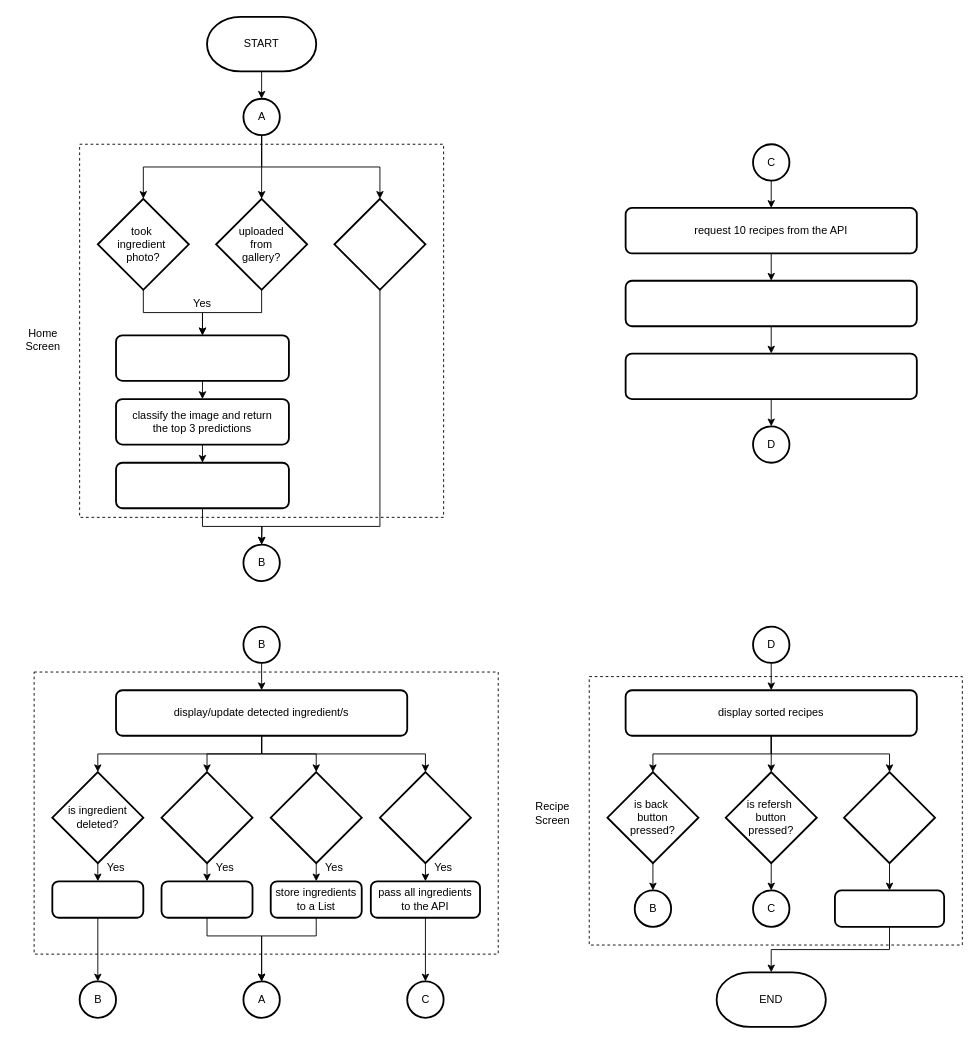
Image size: 978x1043. Some labels were removed from this diagram. The shapes that lost their labels are listed below. From the top down, each one's box as (x1, y1, x2, y2) in pixels, then its label:
(333, 197, 426, 290): view ingredient list?
(624, 279, 917, 327): fetch recipes from the API
(115, 334, 289, 381): pass the image to the CNN model
(624, 352, 917, 399): sort recipes by match percentage in descending order
(115, 461, 289, 509): pass the top 1 predicted label as prop
(160, 771, 253, 864): is reset clicked?
(269, 771, 362, 864): add more ingredients?
(379, 771, 471, 864): find matching recipe?
(843, 771, 935, 864): view recipe details?
(51, 880, 144, 918): delete specific ingredient
(160, 880, 253, 918): delete all ingredients
(834, 889, 945, 927): display recipe details
